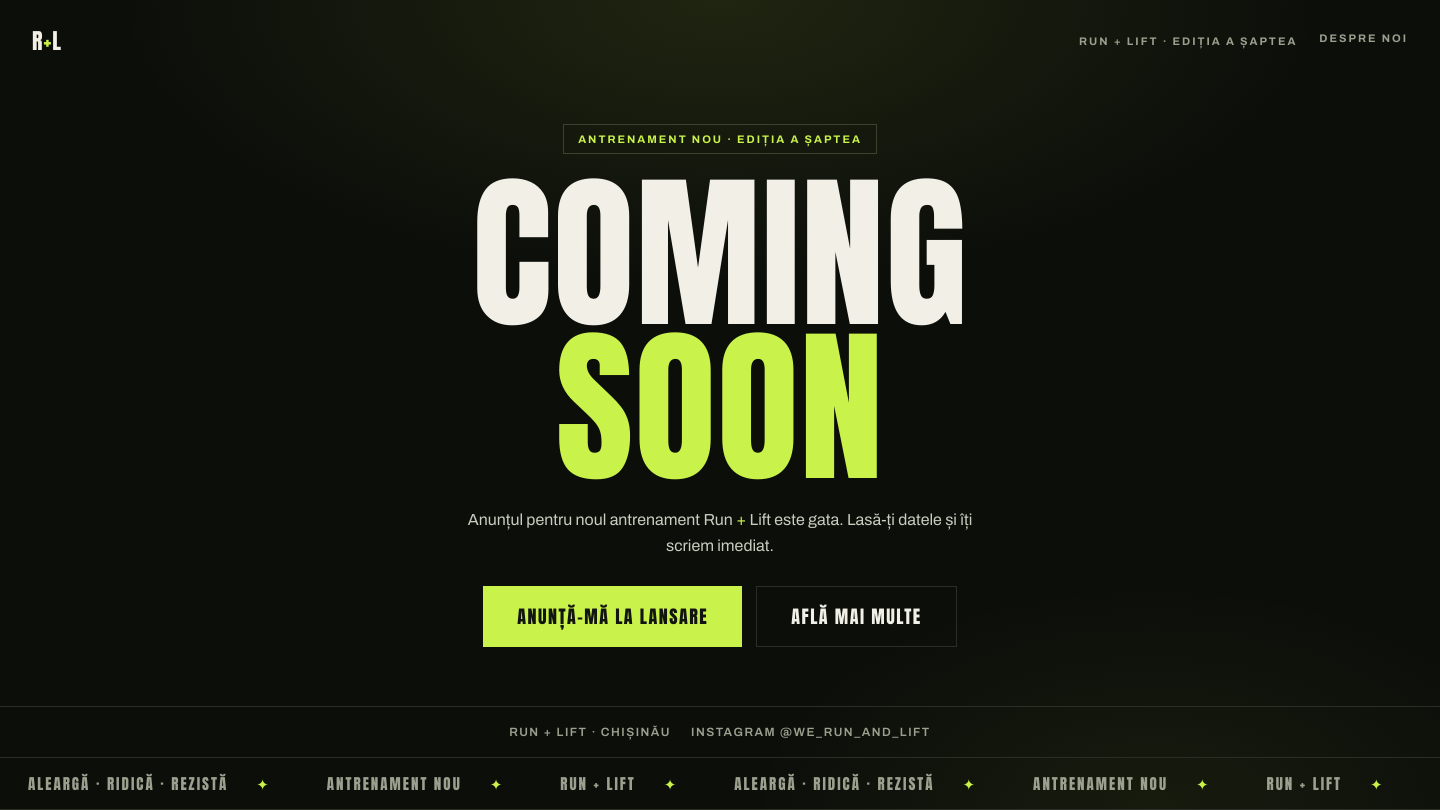
formularul Coming Soon › Esc închide formularul
Click the button "Anunță-mă la lansare" at (613, 617), box [483,586,742,647]
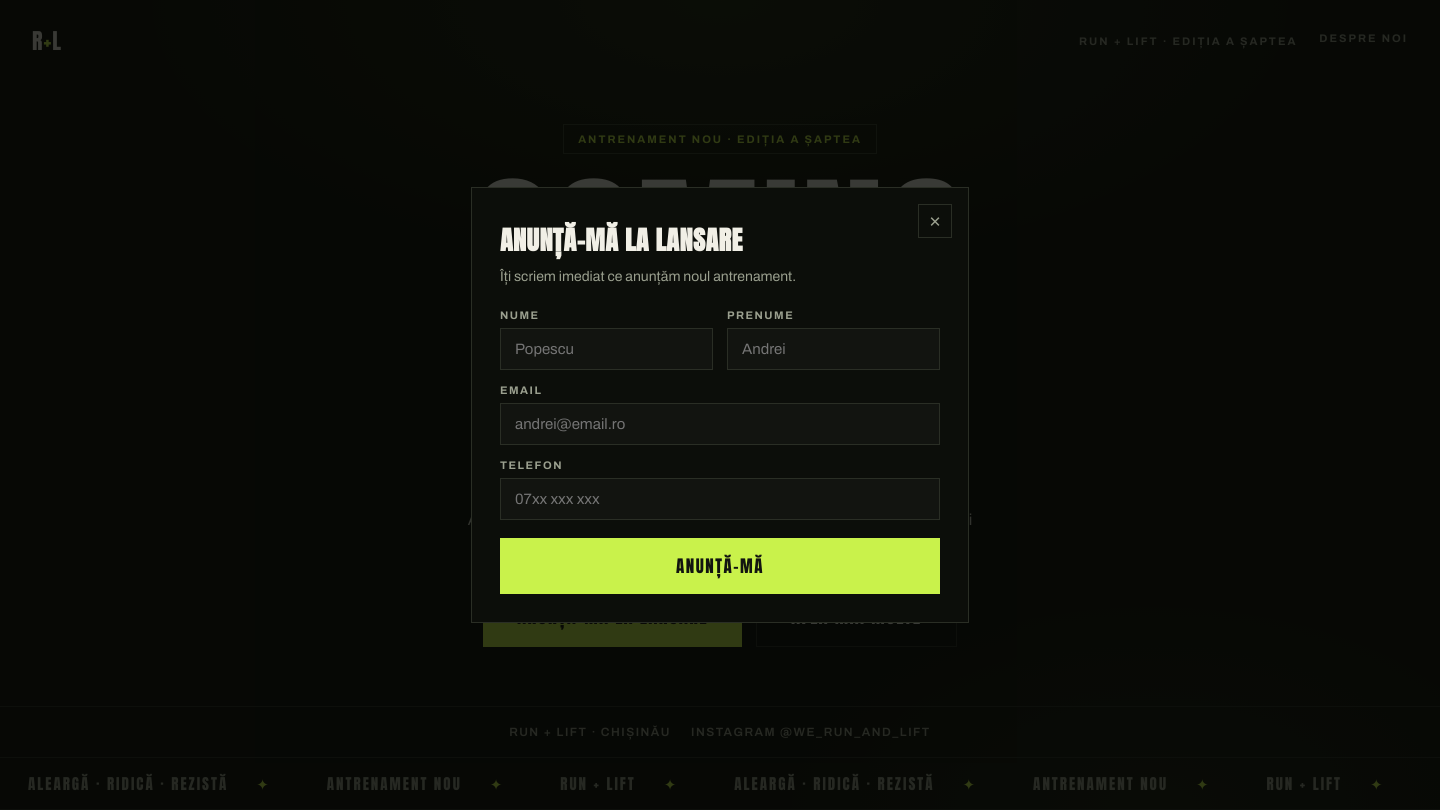
expect the dialog is shown: met, box [471,187,969,623]
Press Escape
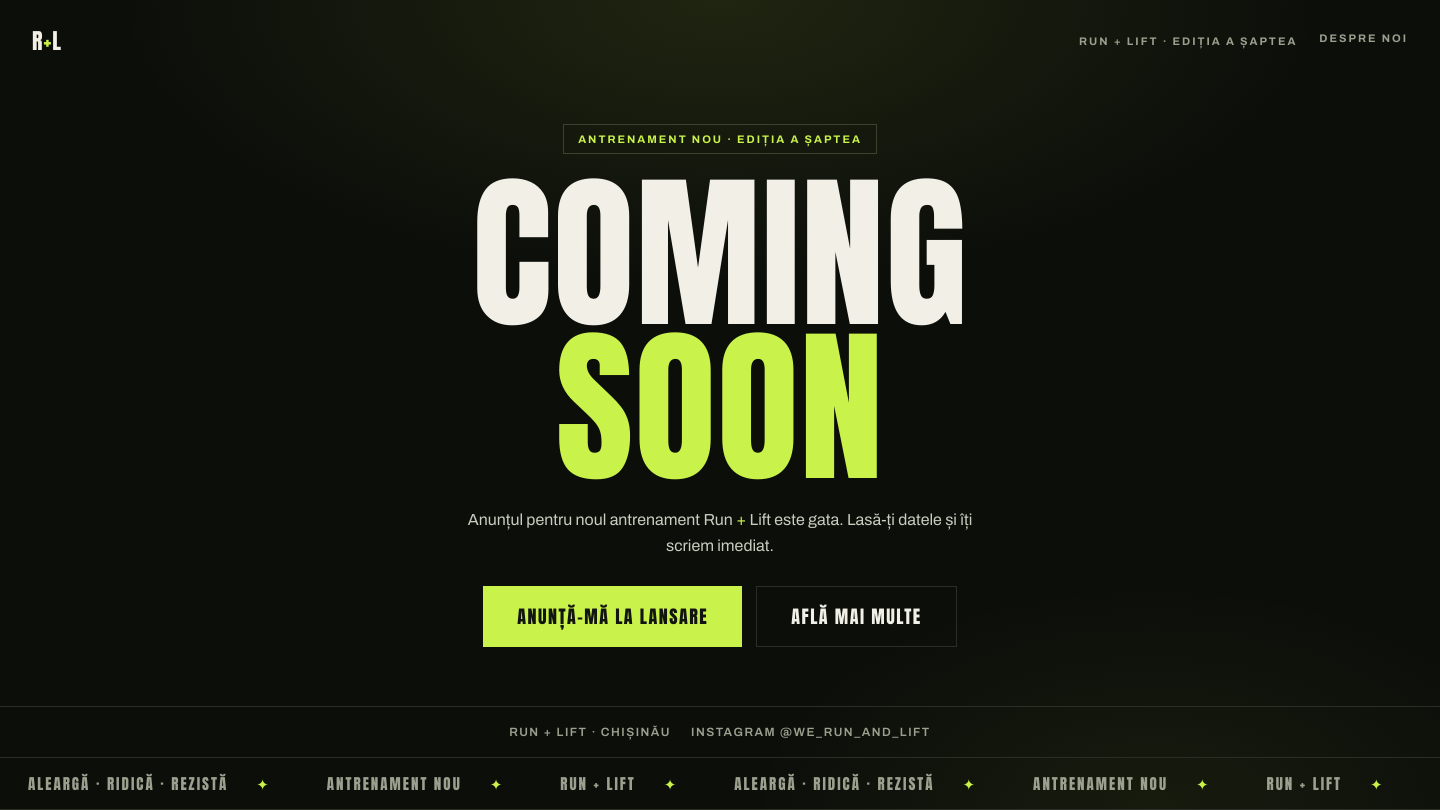
expect the dialog is gone: met
